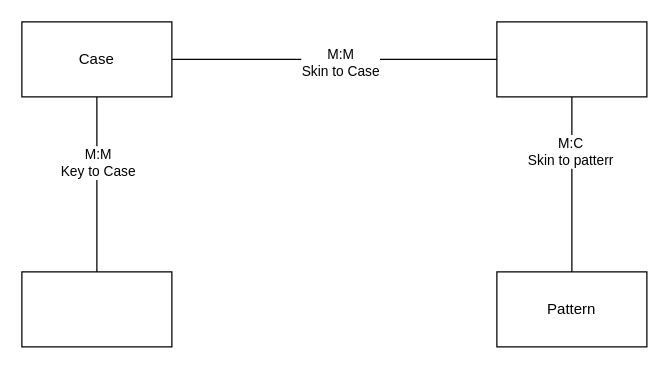
This 669x369 diagram has some shape labels left out. The centre of each missing label's shape, as x and y in pixels:
"Key" belongs at pixel 96 309.
"Skin" belongs at pixel 571 59.
